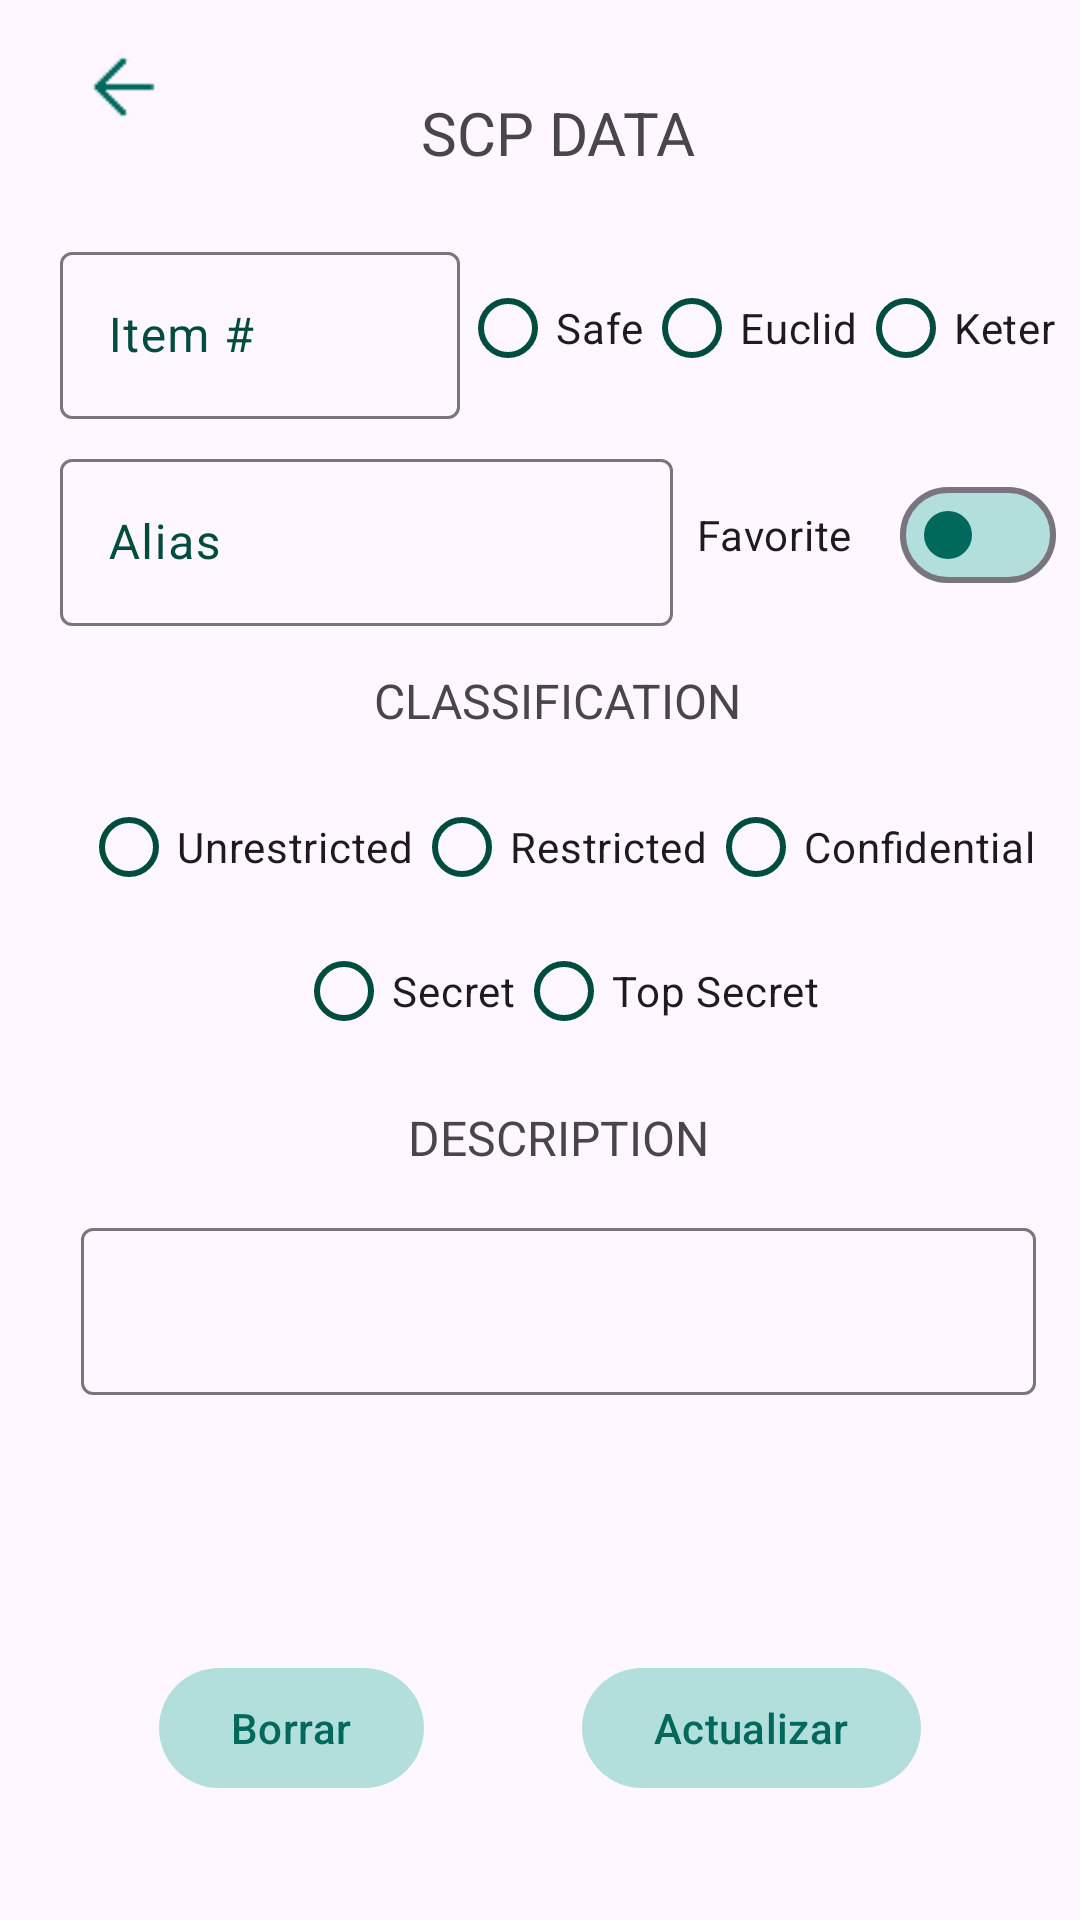

Icons on this 1080×1920 Android screen, each with the point to tap as [x,y]:
arrow back: [124,87]
